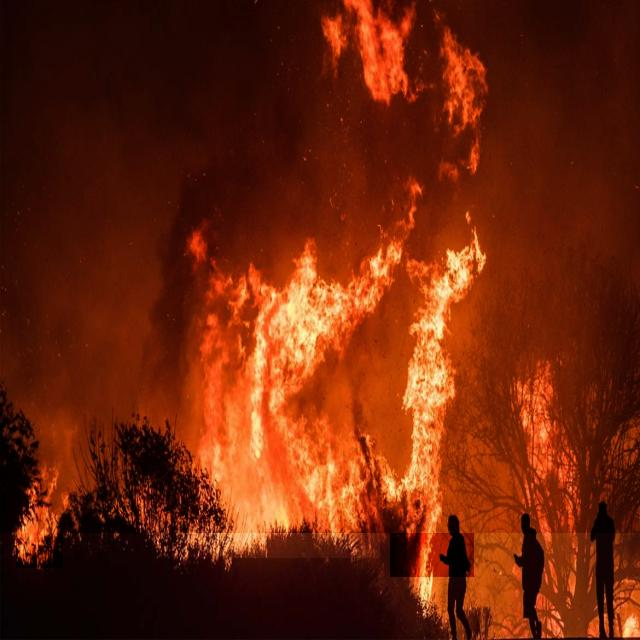Fire: (182, 214, 380, 558), (390, 228, 474, 577), (511, 368, 582, 516), (326, 0, 424, 96), (442, 17, 487, 185), (16, 468, 63, 568)
Smoke: (0, 0, 640, 533)
